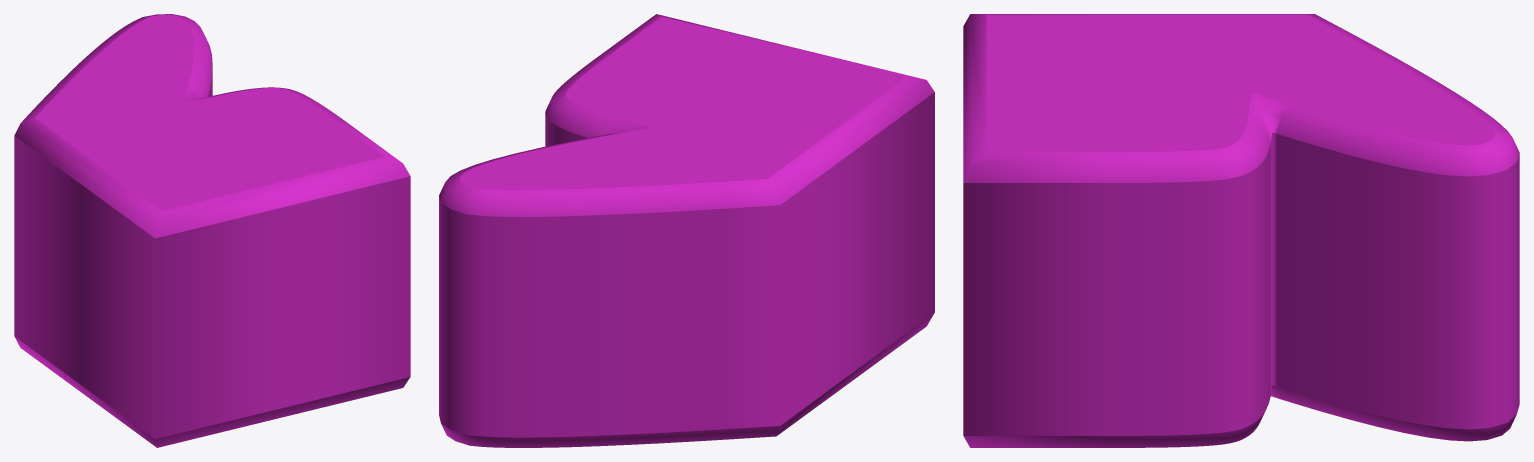
Rendered from Comma.fbx.
The picture shows the model from 3 angles, left to right: view 1: azimuth 30°, elevation 25°; view 2: azimuth 150°, elevation 25°; view 3: azimuth 270°, elevation 25°; orthographic projection. The views are drawn at different scales.
Visible parts, largest first — view 1: Comma; view 2: Comma; view 3: Comma.
Boxes of the visible parts, x1,y1,x2,y2 form: Comma: (14, 14, 410, 447); Comma: (439, 14, 934, 447); Comma: (963, 14, 1519, 447).
Bounding box in the file's own units: 0.1598 × 0.14 × 0.2391.
